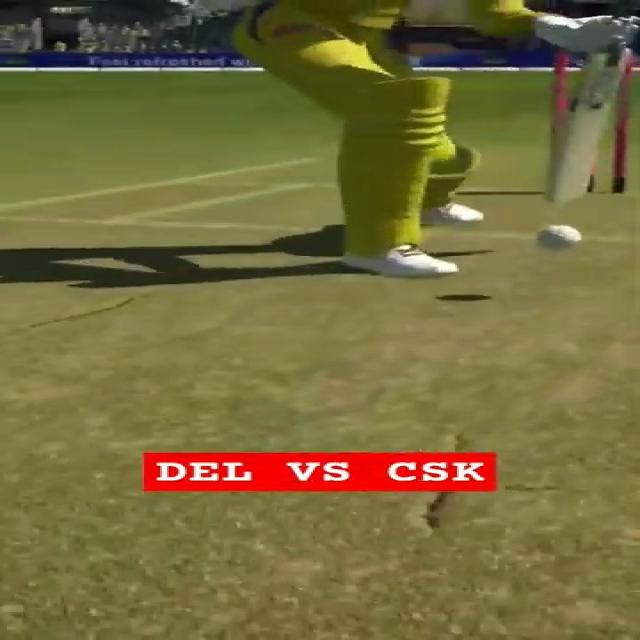ball: (528, 221, 583, 253)
